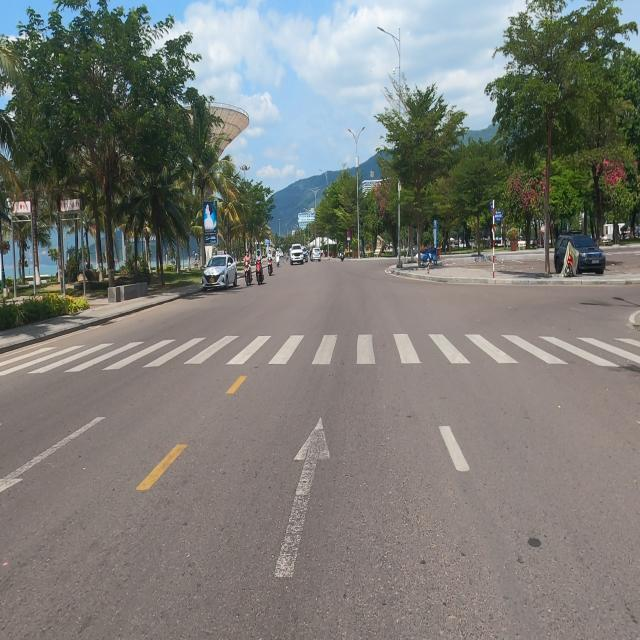walk-crossing: (17, 336, 640, 370)
